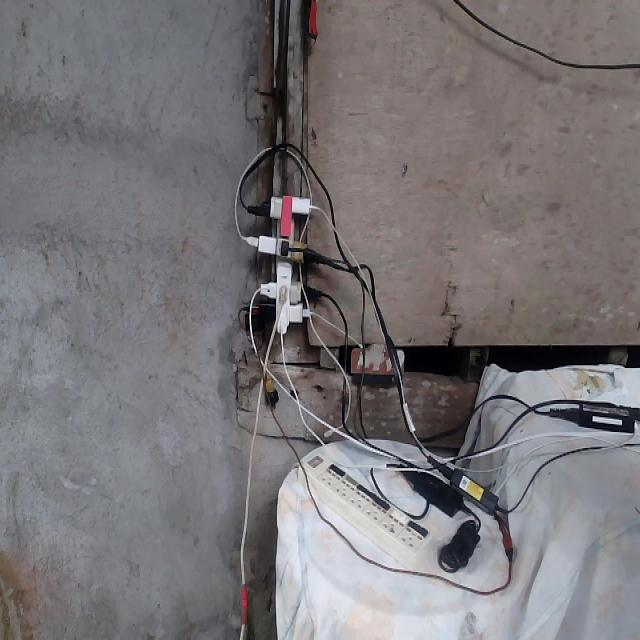-: (240, 193, 324, 335)
